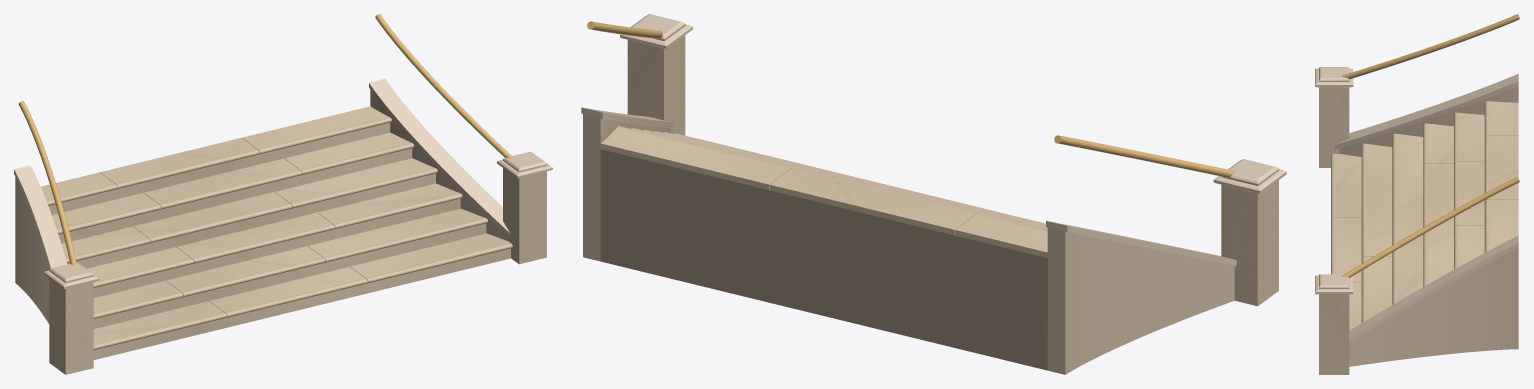
The model's file is xuhui-lunghwa-terminal-curved-stair-foot-raw.glb.
3 renders of one model, left to right at view 1: azimuth 30°, elevation 25°; view 2: azimuth 150°, elevation 25°; view 3: azimuth 270°, elevation 25°, orthographic. The views are drawn at different scales.
Parts seen in each view (by area): view 1: 龙华机场旧候机厅弧形楼梯下段; view 2: 龙华机场旧候机厅弧形楼梯下段; view 3: 龙华机场旧候机厅弧形楼梯下段.
Boxes of the visible parts, bbox=[...] form: 龙华机场旧候机厅弧形楼梯下段: bbox=[14, 14, 552, 374]; 龙华机场旧候机厅弧形楼梯下段: bbox=[581, 14, 1286, 374]; 龙华机场旧候机厅弧形楼梯下段: bbox=[1315, 14, 1519, 374].
Size of the model in its own units: 5.24 by 1.85 by 2.03.
6 materials, 1 textured.
